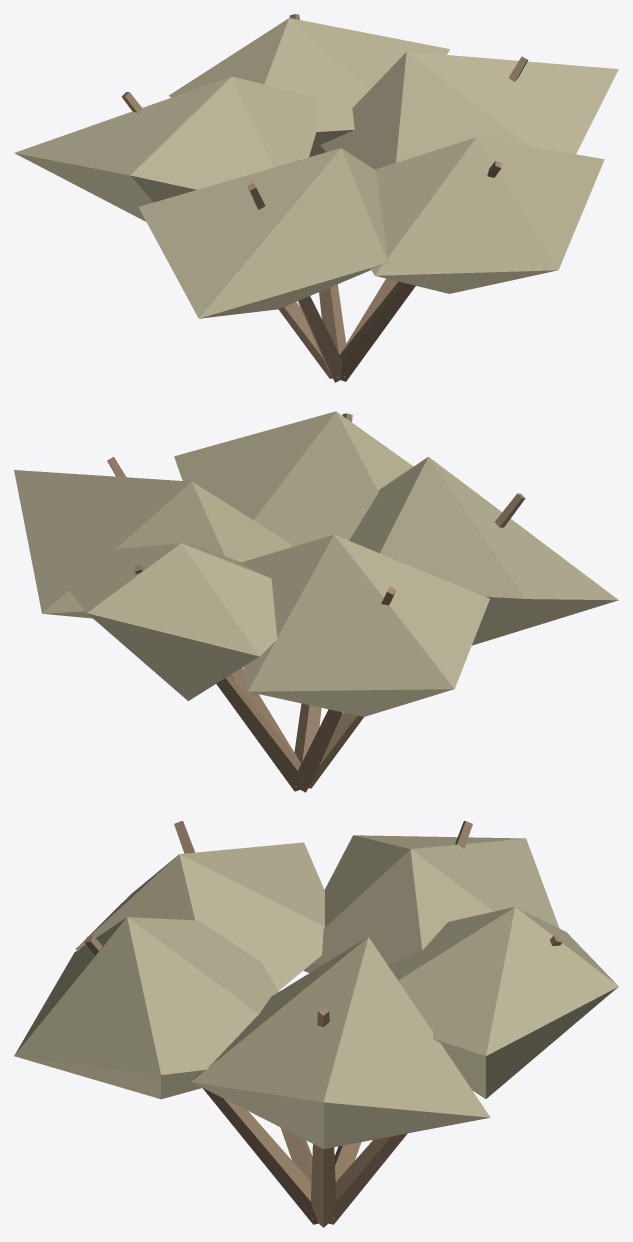
The picture shows the model from 3 angles, top to bottom: view 1: azimuth 30°, elevation 25°; view 2: azimuth 150°, elevation 25°; view 3: azimuth 270°, elevation 25°; orthographic projection. The views are drawn at different scales.
Size of the model in its own units: 1.81 by 0.9755 by 1.59.
